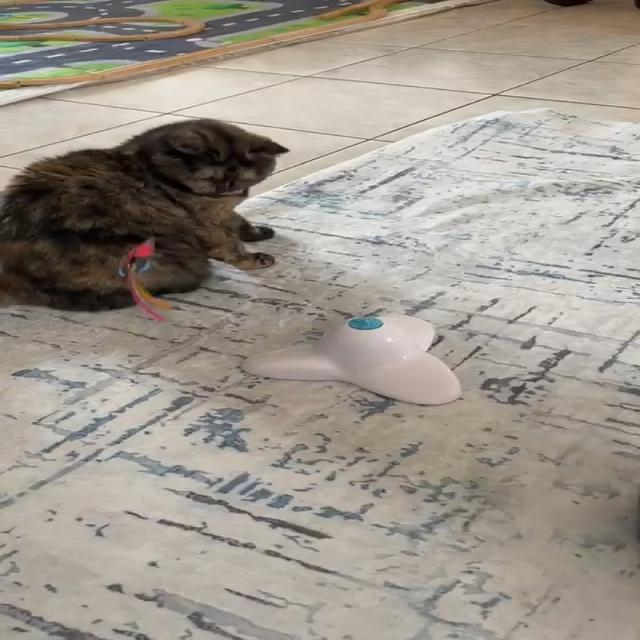authorized: (0, 117, 289, 311)
